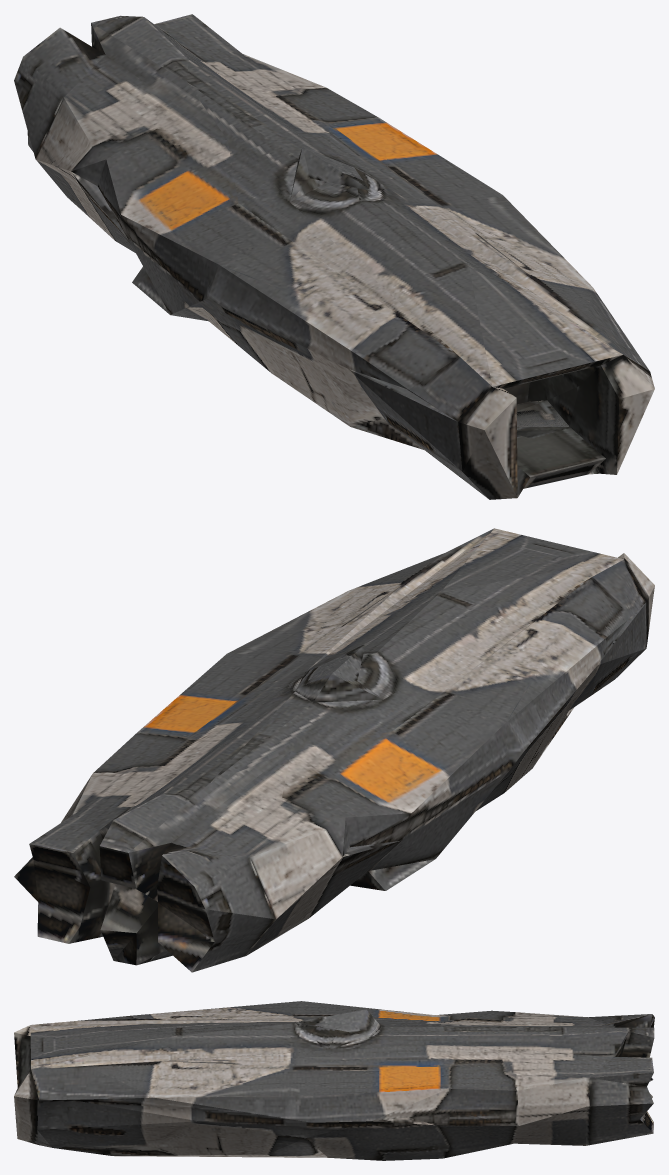
The model's file is hard-300.glb.
The picture shows the model from 3 angles, top to bottom: view 1: azimuth 30°, elevation 25°; view 2: azimuth 150°, elevation 25°; view 3: azimuth 270°, elevation 25°; orthographic projection. The views are drawn at different scales.
Parts seen in each view (by area): view 1: Low; view 2: Low; view 3: Low.
Part boxes in pixels (bbox=[...]): Low: bbox=[14, 14, 654, 499]; Low: bbox=[14, 528, 654, 972]; Low: bbox=[14, 1001, 654, 1160].
Size of the model in its own units: 0.3782 by 0.2057 by 0.9757.
Materials: 1 (1 with a texture image).
